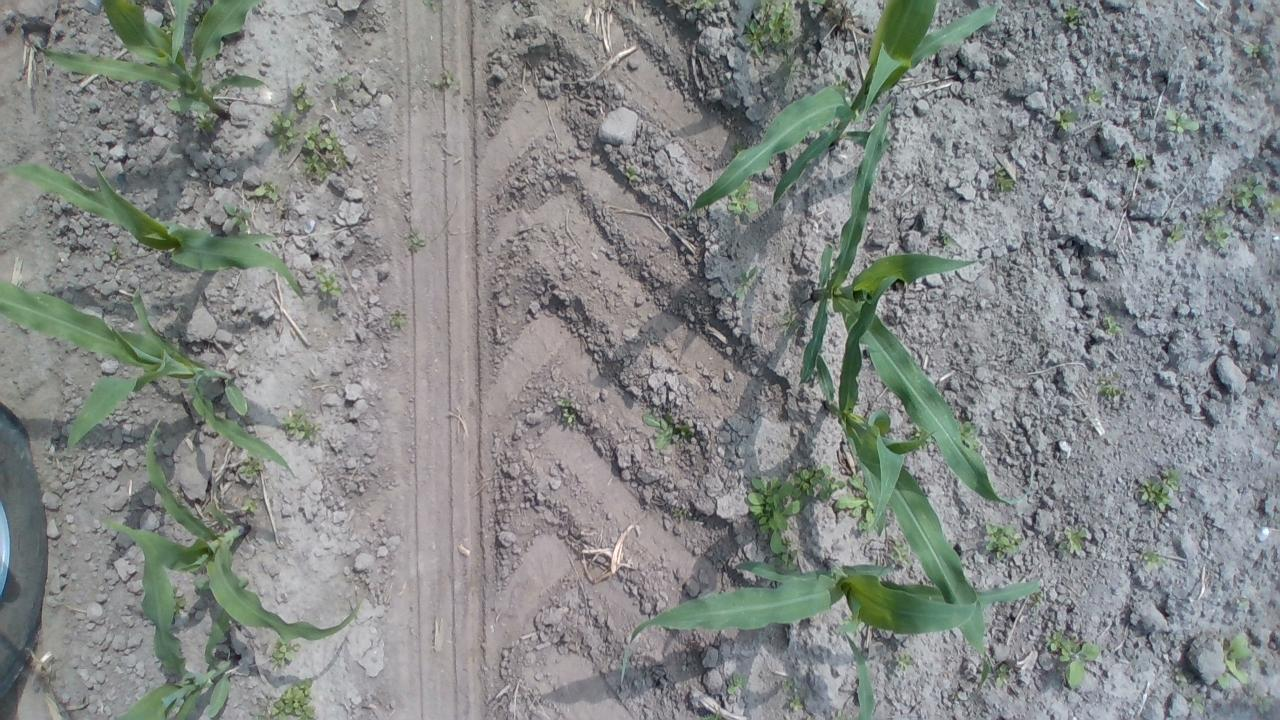Maize: (801, 99, 1032, 507), (814, 278, 992, 686), (675, 0, 1001, 220), (100, 417, 364, 644), (0, 278, 296, 477), (618, 554, 1040, 686), (2, 141, 306, 303), (94, 513, 248, 720), (28, 0, 270, 124), (842, 630, 874, 720)
Weeds: (744, 478, 804, 570), (1044, 629, 1102, 689), (744, 0, 794, 63), (302, 118, 348, 181), (832, 472, 874, 535), (640, 409, 694, 451), (1134, 466, 1183, 512), (268, 676, 317, 720), (794, 462, 850, 500), (1216, 172, 1266, 213), (278, 405, 323, 444), (262, 108, 298, 154), (1223, 627, 1251, 685), (982, 521, 1024, 559), (270, 638, 302, 673), (729, 185, 764, 215), (734, 264, 761, 300), (1166, 109, 1200, 136), (1057, 524, 1087, 554), (222, 202, 251, 233), (555, 395, 581, 426), (1098, 370, 1123, 401), (992, 165, 1016, 197), (1050, 109, 1080, 134), (239, 453, 266, 480), (1202, 222, 1231, 247), (316, 266, 340, 296), (430, 66, 456, 92), (249, 692, 273, 720), (254, 180, 284, 202), (1138, 546, 1168, 568), (779, 311, 804, 337), (290, 82, 314, 109), (960, 420, 981, 450), (890, 540, 911, 569), (404, 226, 426, 253), (726, 672, 749, 697), (1062, 2, 1082, 29), (1255, 691, 1277, 715), (1102, 314, 1124, 337), (1166, 222, 1187, 246), (1198, 205, 1222, 225), (174, 586, 188, 620), (389, 306, 408, 330), (896, 650, 916, 672), (1083, 83, 1105, 103), (1242, 43, 1270, 58), (830, 70, 851, 90), (198, 114, 218, 134), (996, 664, 1011, 688), (938, 228, 956, 248), (239, 498, 261, 514), (694, 0, 726, 11), (670, 505, 693, 520), (329, 72, 348, 90), (784, 62, 802, 81), (1132, 152, 1150, 170), (730, 140, 749, 157), (1192, 694, 1206, 715), (192, 576, 210, 592), (780, 677, 796, 695), (788, 694, 804, 712), (1174, 664, 1190, 682), (1267, 194, 1280, 216), (110, 240, 122, 262), (1234, 595, 1250, 610), (698, 711, 723, 720), (623, 166, 637, 182), (422, 0, 440, 12), (1032, 592, 1043, 610), (1218, 674, 1230, 690), (832, 708, 846, 720), (842, 614, 854, 628), (454, 77, 462, 92), (811, 0, 831, 6), (951, 690, 959, 702)
